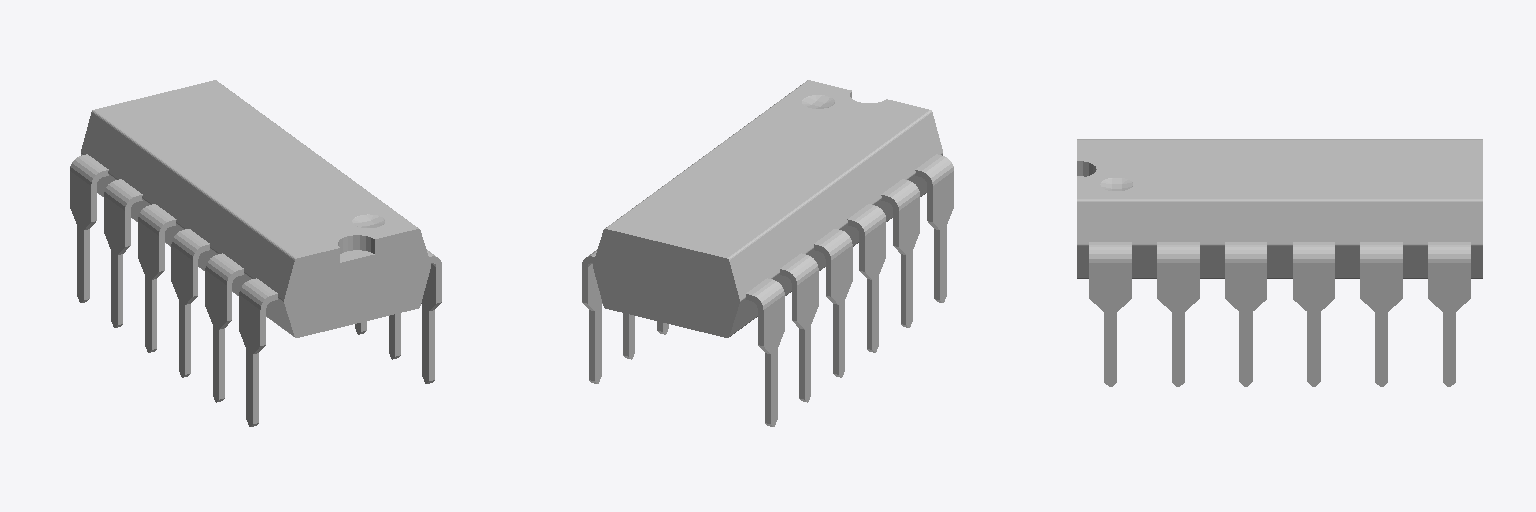
3 views of the same model, side by side, from view 1: azimuth 30°, elevation 25°; view 2: azimuth 150°, elevation 25°; view 3: azimuth 270°, elevation 25° (orthographic).
Visible parts, largest first — view 1: Volumenkörper1; view 2: Volumenkörper1; view 3: Volumenkörper1.
Part boxes in pixels (x1,y1,x2,y2): Volumenkörper1: (70,80,441,426); Volumenkörper1: (582,80,953,426); Volumenkörper1: (1077,139,1482,386).
Bounding box in the file's own units: 7.87 × 7.17 × 15.24.